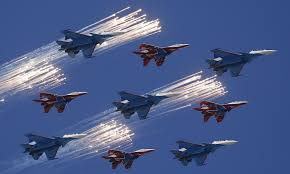fighter: (56, 28, 127, 61), (20, 129, 88, 163), (112, 88, 182, 121), (205, 47, 279, 78), (170, 136, 239, 168), (133, 41, 192, 69), (191, 98, 250, 125), (33, 89, 91, 116), (101, 143, 158, 170)
